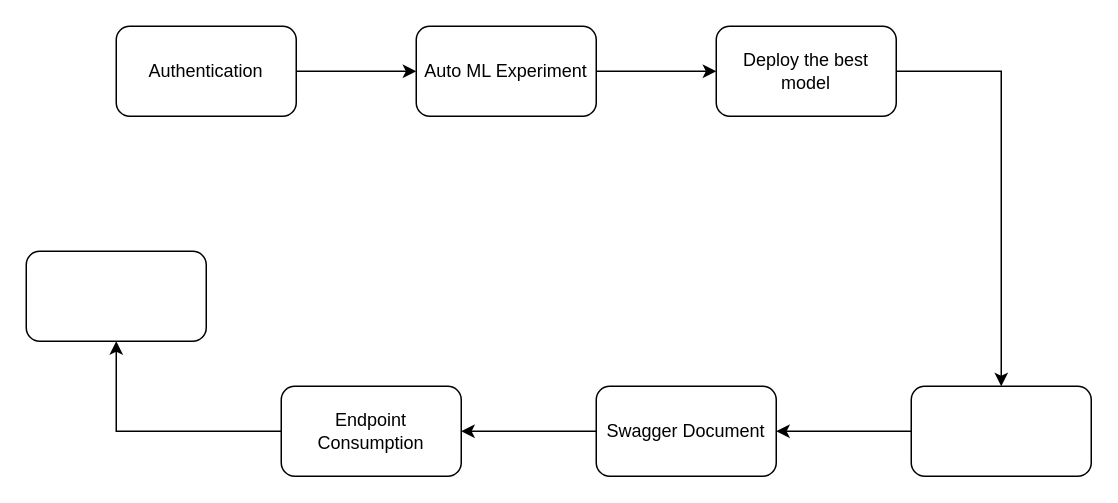
This 1118x503 diagram has some shape labels left out. The shapes that lost their labels are listed below. From the top down, each one's centre as x and y in pixels, then its label:
(x=115, y=295): Pipeline via SDK
(x=1000, y=430): Enable Logging
